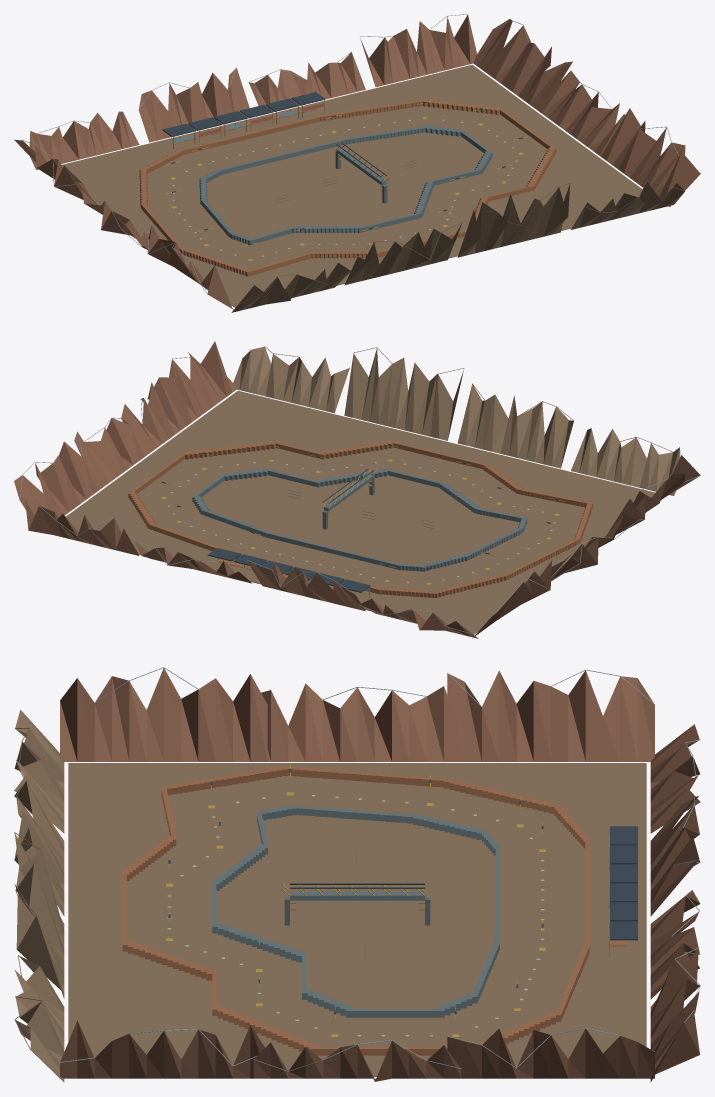
File: sirocco-circuit.glb
3 views of the same model, one above another, from view 1: azimuth 30°, elevation 25°; view 2: azimuth 150°, elevation 25°; view 3: azimuth 270°, elevation 25° (orthographic). The views are drawn at different scales.
Parts seen in each view (by area): view 1: batch.sandstone, batch.red-earth, batch.ochre, batch.iron, batch.charcoal, batch.salt; view 2: batch.sandstone, batch.red-earth, batch.ochre, batch.iron, batch.charcoal, batch.salt; view 3: batch.sandstone, batch.red-earth, batch.ochre, batch.iron, batch.charcoal, batch.salt.
Boxes of the visible parts, x1,y1,x2,y2 form: batch.sandstone: [62, 64, 684, 312]; batch.red-earth: [14, 15, 700, 309]; batch.ochre: [139, 99, 556, 276]; batch.iron: [199, 125, 492, 244]; batch.charcoal: [162, 92, 522, 245]; batch.salt: [22, 14, 700, 293]; batch.sandstone: [66, 346, 680, 634]; batch.red-earth: [14, 341, 700, 638]; batch.ochre: [128, 441, 593, 598]; batch.iron: [192, 468, 527, 571]; batch.charcoal: [162, 444, 559, 592]; batch.salt: [19, 357, 700, 634]; batch.sandstone: [14, 710, 646, 1082]; batch.red-earth: [14, 668, 700, 1082]; batch.ochre: [122, 766, 626, 1055]; batch.iron: [212, 806, 499, 1017]; batch.charcoal: [168, 768, 637, 1014]; batch.salt: [60, 667, 700, 1071].
Size of the model in its own units: 308 by 36.27 by 245.
